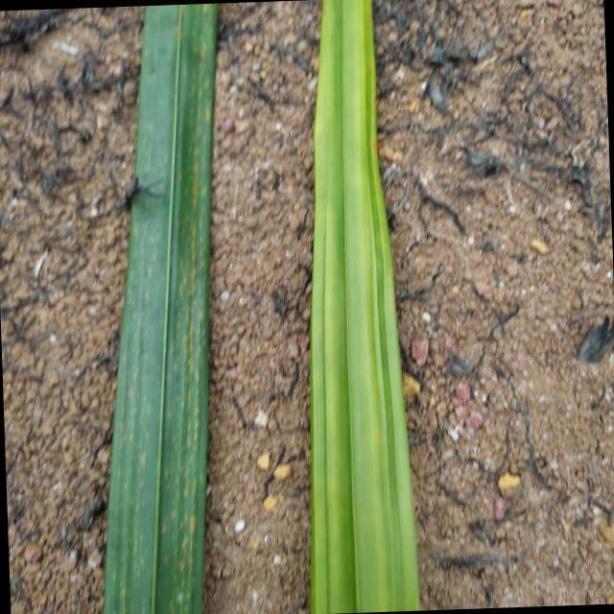nitrogen: (312, 0, 420, 614)
